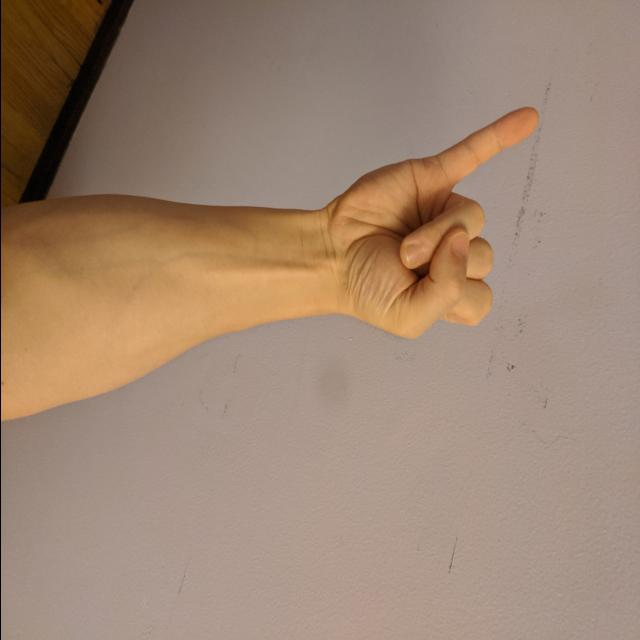I: (318, 99, 542, 346)
